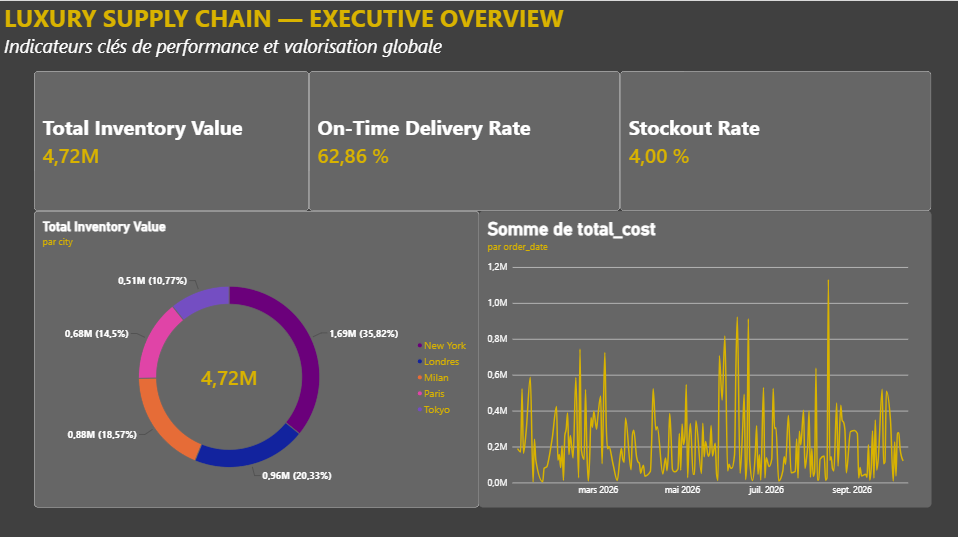

The page's visual inventory and layout, read from the dashboard file:
{"tool":"powerbi","page":{"name":"Page 1","canvas":[1920,1080],"ordinal":0},"visuals":[{"type":"textbox","box":[10.3,0,1360.6,279.9],"z":0},{"type":"cardVisual","fields":{"Data":["inventory.Total Inventory Value"]},"box":[70,140,550,280],"z":1000},{"type":"cardVisual","fields":{"Data":["deliveries.On-Time Delivery Rate"]},"box":[620,140,622.5,280],"z":2000},{"type":"cardVisual","fields":{"Data":["inventory.Stockout Rate"]},"box":[1242.5,140,622.5,280],"z":3000},{"type":"donutChart","fields":{"Category":["stores.city"],"Y":["inventory.Total Inventory Value"]},"box":[70,420,890,592.5],"z":4000},{"type":"lineChart","fields":{"Category":["orders.order_date"],"Y":["Sum(orders.total_cost)"]},"box":[960,420,905,592.5],"z":5000}]}

Visuals, with their boxes in screenshot pixels (x1, y1, x2, y2), scaled from the page's 1920x1080 canvas onto the 958x537 screenshot:
textbox: pyautogui.locateOnScreen(5, 0, 684, 139)
cardVisual - inventory.Total Inventory Value: pyautogui.locateOnScreen(35, 70, 309, 209)
cardVisual - deliveries.On-Time Delivery Rate: pyautogui.locateOnScreen(309, 70, 620, 209)
cardVisual - inventory.Stockout Rate: pyautogui.locateOnScreen(620, 70, 931, 209)
donutChart - stores.city x inventory.Total Inventory Value: pyautogui.locateOnScreen(35, 209, 479, 503)
lineChart - orders.order_date x Sum(orders.total_cost): pyautogui.locateOnScreen(479, 209, 931, 503)
